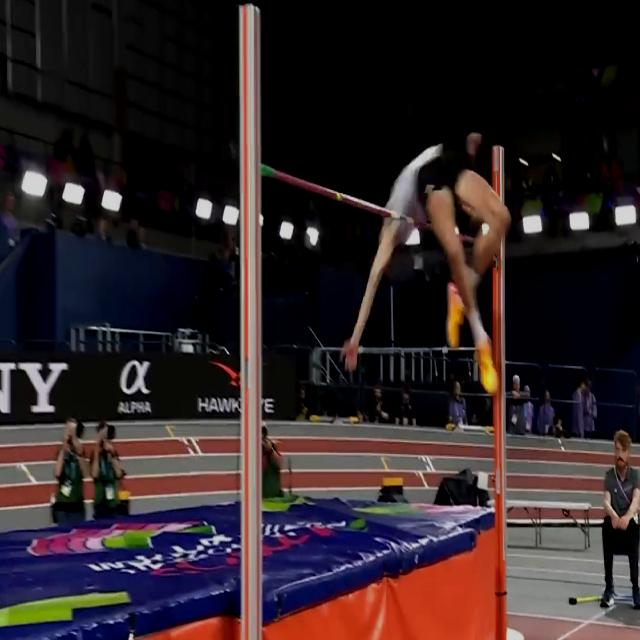jump: (337, 127, 512, 389)
